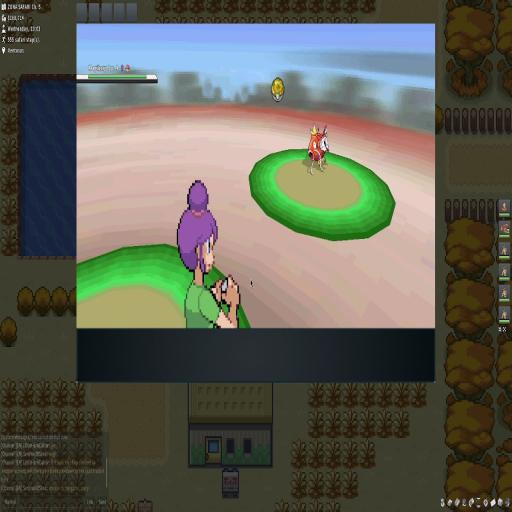MAGIKARP: (308, 123, 330, 175)
